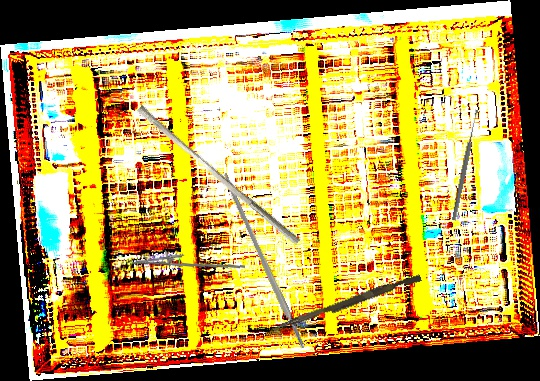Needle Holder: (131, 243, 245, 278)
Pusher: (132, 104, 306, 246), (272, 270, 422, 337)
Scalpel Handle: (221, 172, 306, 350)
Surgical Spoon: (450, 109, 481, 221)
